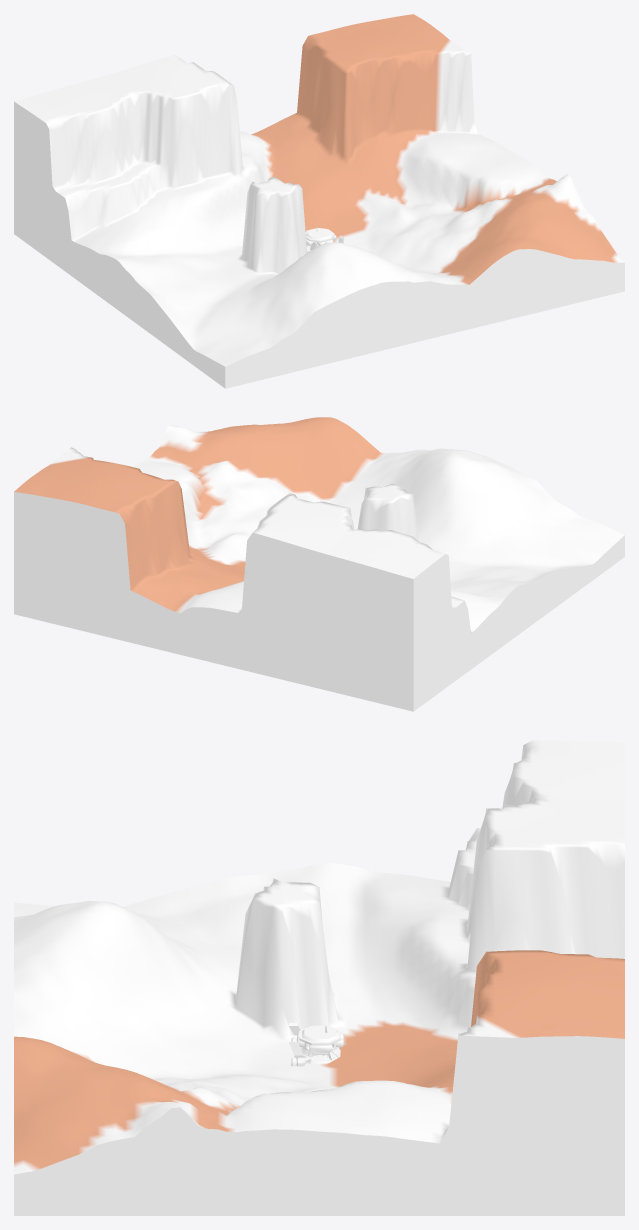
Rendered from world.glb.
3 views of the same model, one above another, from view 1: azimuth 30°, elevation 25°; view 2: azimuth 150°, elevation 25°; view 3: azimuth 270°, elevation 25° (orthographic). The views are drawn at different scales.
Visible parts, largest first — view 1: terrain, terrain_walls; view 2: terrain, terrain_walls; view 3: terrain, terrain_walls, block_SkyPlatform.
Boxes of the visible parts, x1,y1,x2,y2 form: terrain: (14,14,624,366); terrain_walls: (14,101,624,388); terrain: (14,417,624,633); terrain_walls: (14,492,624,711); terrain: (14,740,624,1174); terrain_walls: (14,1035,624,1215); block_SkyPlatform: (297,1025,343,1060).
Bounding box in the file's own units: 1.23 × 0.4525 × 1.12.
